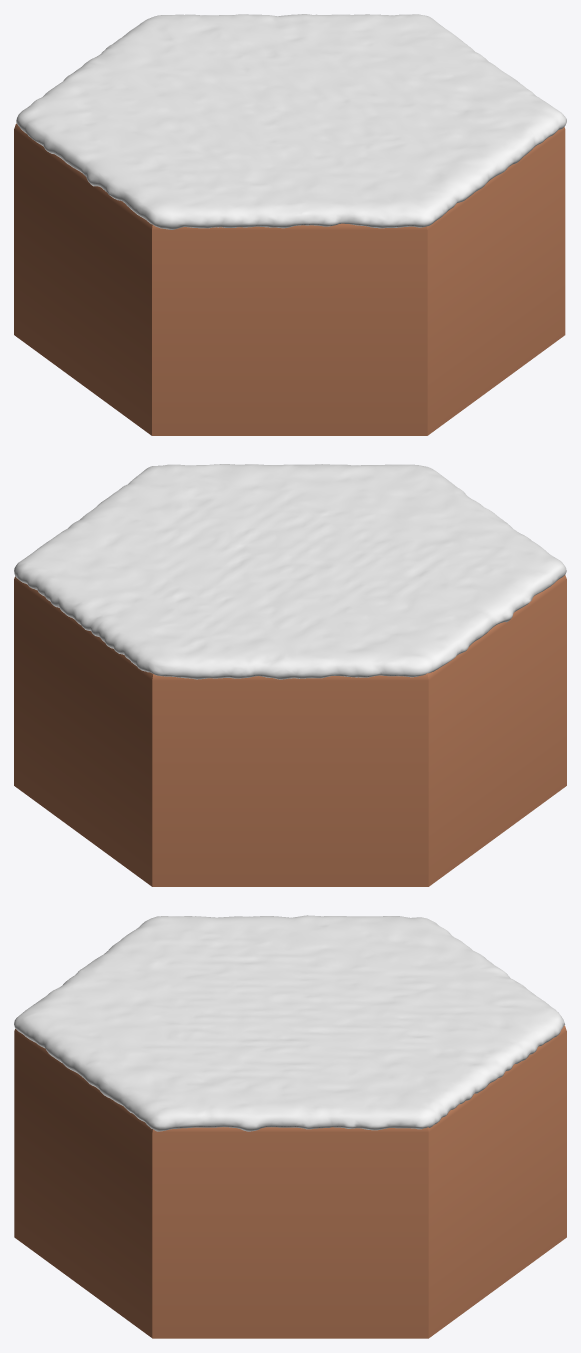
Rendered from snow_hex_rock.fbx.
The picture shows the model from 3 angles, top to bottom: view 1: azimuth 30°, elevation 25°; view 2: azimuth 150°, elevation 25°; view 3: azimuth 270°, elevation 25°; orthographic projection.
Visible parts, largest first — view 1: hex_rock, SnowBall.001; view 2: hex_rock, SnowBall.001; view 3: hex_rock, SnowBall.001.
Boxes of the visible parts, x1,y1,x2,y2 form: hex_rock: (14,123,565,435); SnowBall.001: (16,14,566,229); hex_rock: (14,575,566,886); SnowBall.001: (14,464,566,679); hex_rock: (14,1025,566,1338); SnowBall.001: (14,915,564,1131).
Size of the model in its own units: 204 by 104 by 231.
